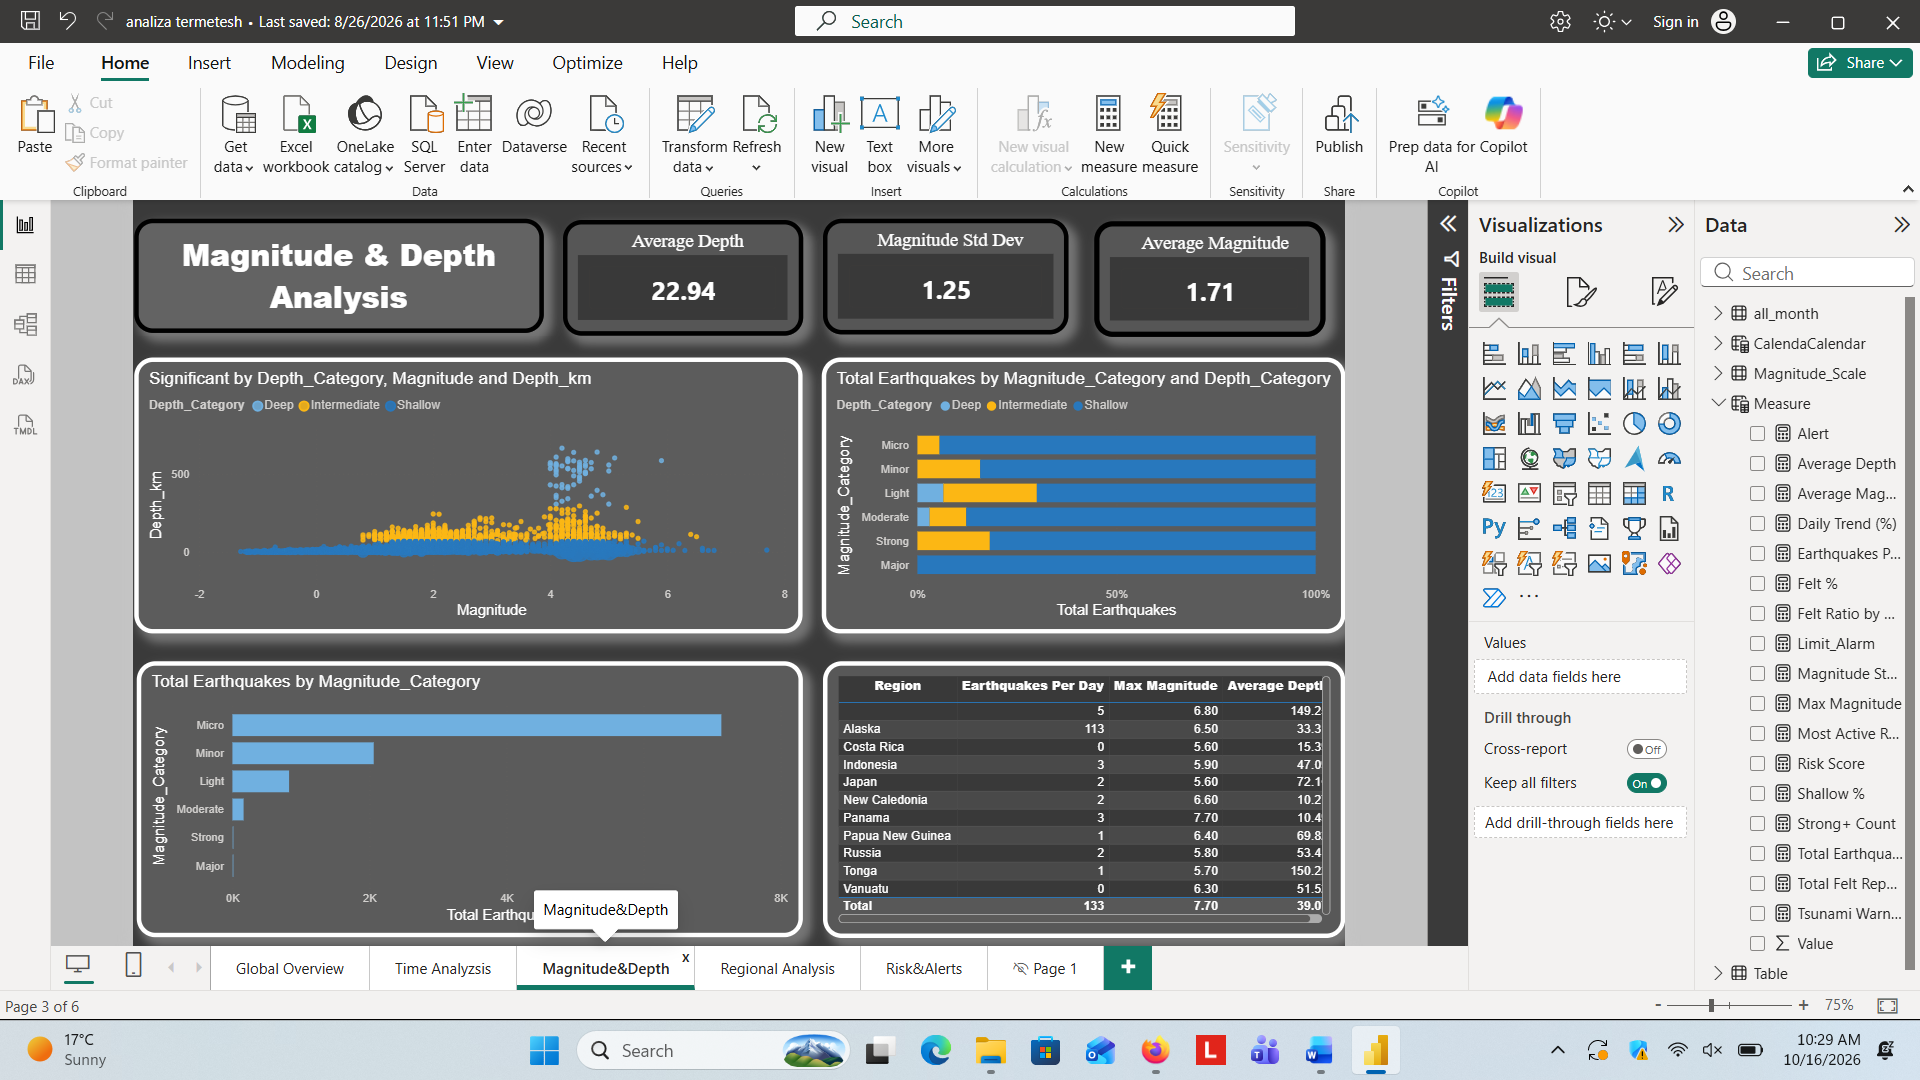

The dashboard page shown, as its layout file describes it:
{"tool":"powerbi","page":{"name":"Magnitude&Depth","canvas":[1300,800],"ordinal":2},"visuals":[{"type":"scatterChart","title":" Significant by Depth_Category, Magnitude and Depth_km","fields":{"Series":["all_month.Depth_Category"],"Size":["CountNonNull(all_month.IsSignificant)"],"X":["all_month.Magnitude"],"Y":["all_month.Depth_km"]},"box":[1.3,168.9,717.2,296.2],"z":0},{"type":"barChart","fields":{"Category":["all_month.Magnitude_Category"],"Y":["Measure.Total Earthquakes"]},"box":[4,494.6,714.5,296.2],"z":1000},{"type":"hundredPercentStackedBarChart","fields":{"Category":["all_month.Magnitude_Category"],"Series":["all_month.Depth_Category"],"Y":["Measure.Total Earthquakes"]},"box":[738.6,168.9,561.7,296.2],"z":2000},{"type":"cardVisual","title":"Average Depth","fields":{"Data":["Measure.Average Depth"]},"box":[461.3,20.9,257.8,124],"z":3000},{"type":"cardVisual","title":"Magnitude Std Dev","fields":{"Data":["Measure.Magnitude Std Dev"]},"box":[740,19.5,263.4,124],"z":4000},{"type":"cardVisual","title":"Average Magnitude","fields":{"Data":["Measure.Average Magnitude"]},"box":[1031.3,22.3,248.1,124],"z":5000},{"type":"tableEx","fields":{"Values":["all_month.Region","Measure.Earthquakes Per Day","Measure.Max Magnitude","Measure.Average Depth"]},"box":[739.8,495.1,560.2,296.8],"z":6000},{"type":"textbox","box":[1.4,19.5,439,122.6],"z":7000}]}

Visuals, with their boxes on the page's 1300x800 design canvas (x1, y1, x2, y2). These are canvas units, not pixel positions in the 1920x1080 screenshot, which may show the page scaled, cropped or inside an application window:
" Significant by Depth_Category, Magnitude and Depth_km" scatterChart: bbox(1, 169, 718, 465)
barChart - all_month.Magnitude_Category x Measure.Total Earthquakes: bbox(4, 495, 718, 791)
hundredPercentStackedBarChart - all_month.Magnitude_Category x all_month.Depth_Category: bbox(739, 169, 1300, 465)
"Average Depth" cardVisual: bbox(461, 21, 719, 145)
"Magnitude Std Dev" cardVisual: bbox(740, 20, 1003, 144)
"Average Magnitude" cardVisual: bbox(1031, 22, 1279, 146)
tableEx - all_month.Region x Measure.Earthquakes Per Day: bbox(740, 495, 1300, 792)
textbox: bbox(1, 20, 440, 142)
